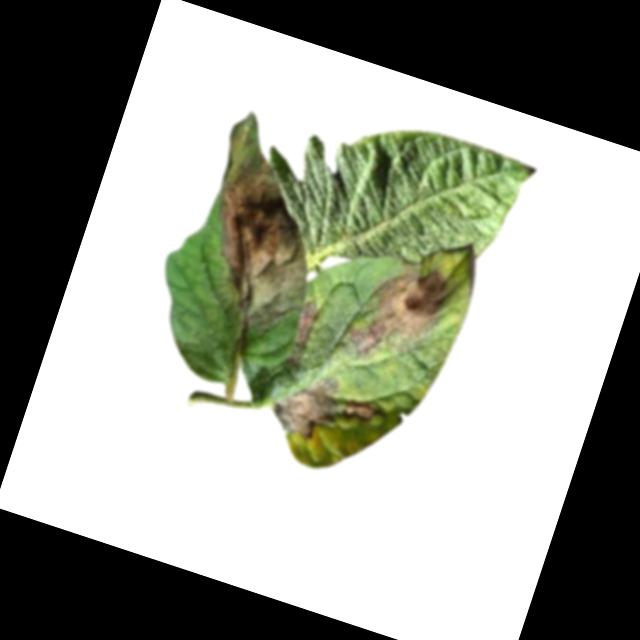Late_blight: (167, 115, 348, 353), (340, 246, 456, 382), (264, 360, 391, 465), (289, 294, 322, 351)
